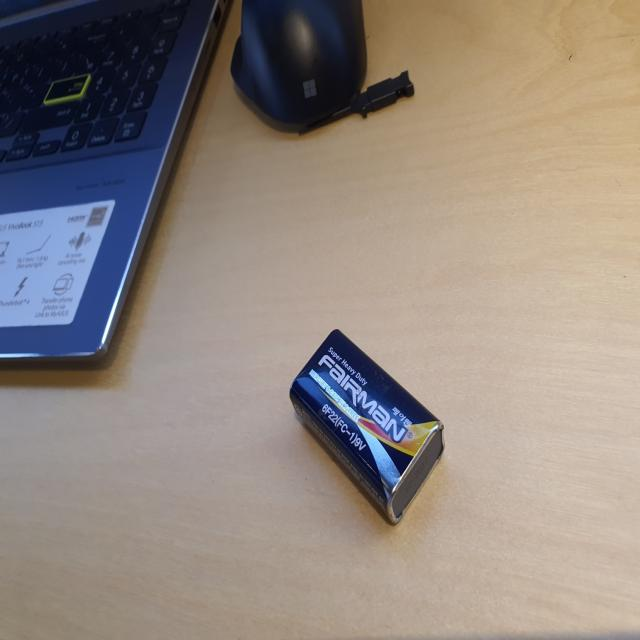battery-etc-etc: (272, 315, 463, 543)
